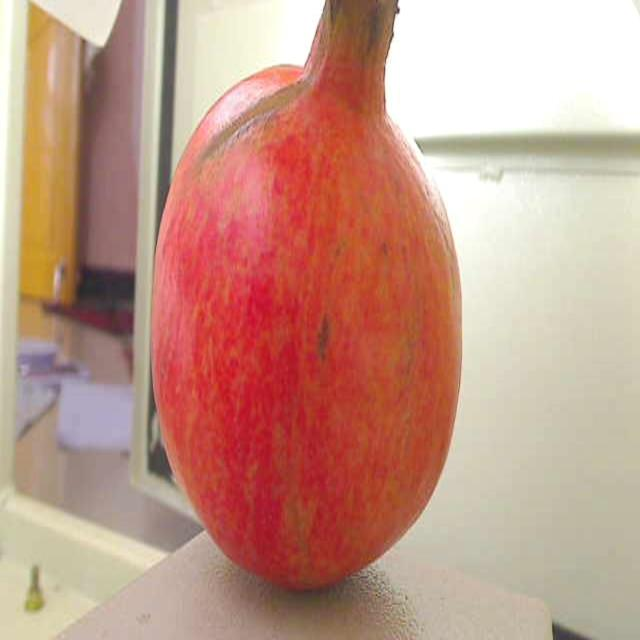pomegranate: (150, 0, 469, 596)
